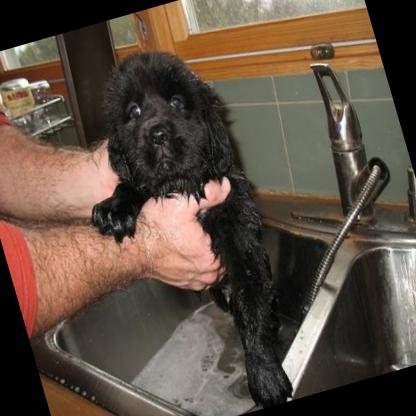Tibetan_mastiff: (45, 29, 314, 416)
